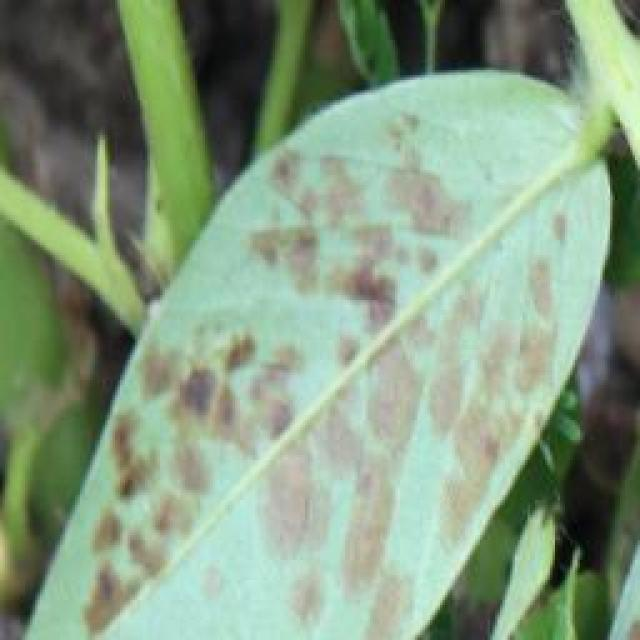Whitefly: (52, 105, 582, 640)
